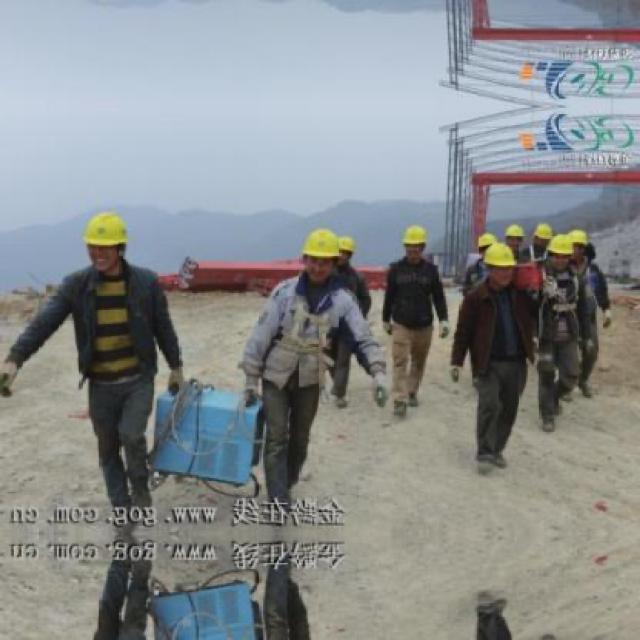helmet: (80, 200, 135, 278), (302, 227, 348, 280), (480, 241, 512, 282), (543, 234, 572, 273), (400, 221, 429, 259), (566, 225, 592, 262), (504, 222, 528, 251), (337, 236, 361, 264), (532, 220, 552, 252), (477, 230, 497, 259)
